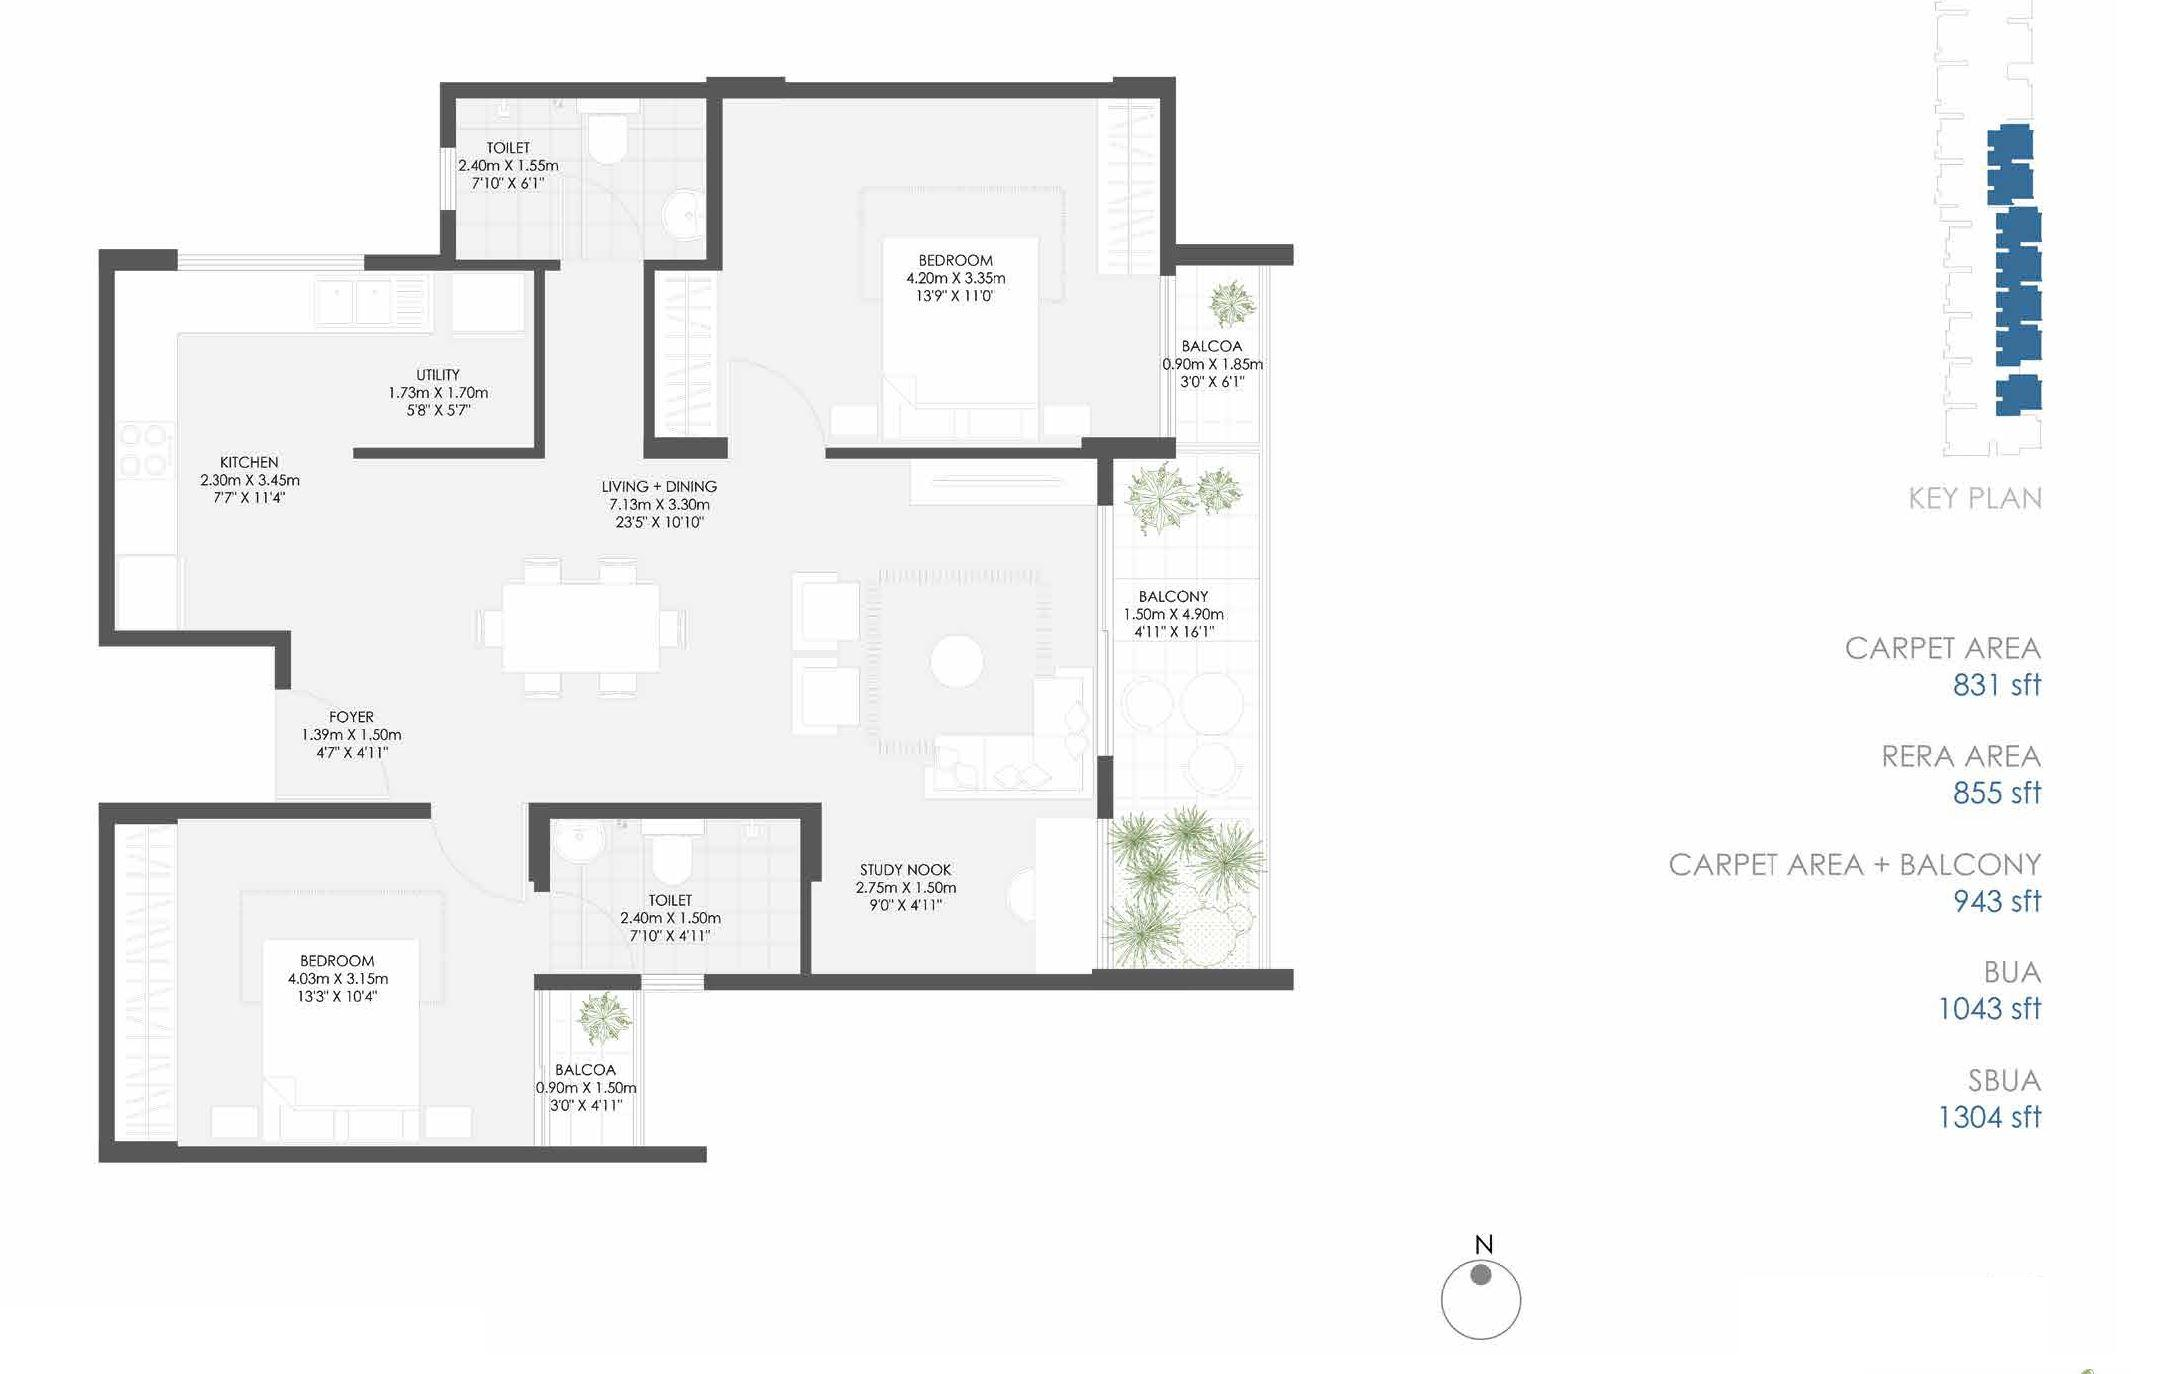Balcony: (1112, 457, 1264, 967)
Bed: (259, 936, 424, 1148), (883, 241, 1036, 440)
Bedroom: (723, 100, 1158, 448), (109, 815, 528, 1148)
Dining Room: (449, 461, 720, 798)
Dining table: (464, 551, 691, 708)
Foyer: (277, 659, 434, 803)
Kitchen: (119, 271, 345, 633)
Living Room: (714, 457, 1100, 798)
Sofa: (922, 733, 1090, 795), (1032, 673, 1090, 795), (786, 571, 862, 652), (790, 659, 864, 736)
Wardrobe: (114, 823, 172, 1143), (1093, 97, 1161, 275), (655, 271, 717, 437)
balcoa: (1171, 264, 1263, 446), (543, 989, 638, 1144)
commode: (584, 108, 634, 166), (649, 842, 701, 893)
door: (280, 687, 394, 809), (430, 807, 525, 910), (726, 358, 824, 451), (552, 173, 647, 268), (536, 890, 636, 978)
fridge: (120, 560, 184, 627)
kitchen-slab: (117, 274, 434, 337), (119, 271, 182, 554)
sink: (316, 275, 430, 332), (552, 820, 614, 867), (660, 188, 706, 249)
stove: (120, 419, 182, 486)
study: (815, 807, 1100, 974)
toilet: (535, 815, 805, 975), (449, 97, 709, 258)
tv: (924, 465, 1079, 508)
utility: (342, 271, 532, 450)
washing-machine: (446, 271, 528, 340)
